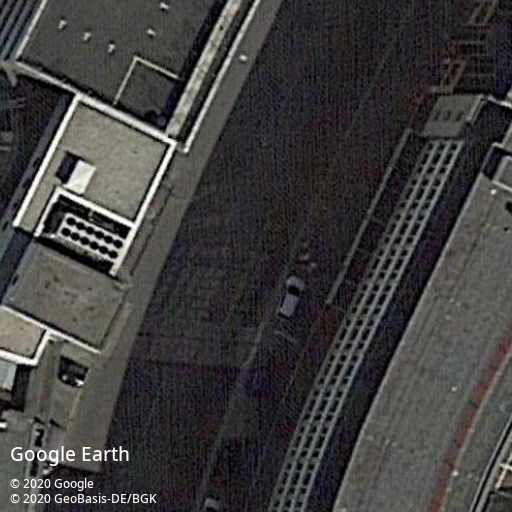Chiller: (56, 212, 127, 263)
